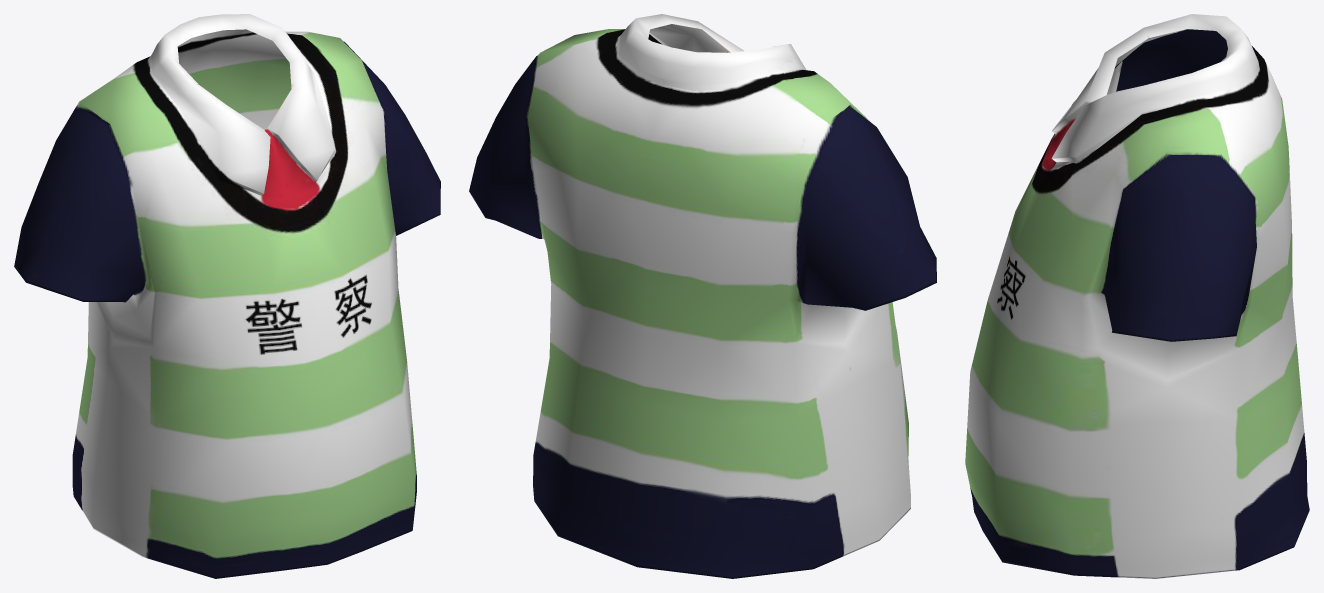
The model's file is AF_M_Jacket_07.FBX.
3 views of the same model, side by side, from view 1: azimuth 30°, elevation 25°; view 2: azimuth 150°, elevation 25°; view 3: azimuth 270°, elevation 25° (orthographic). The views are drawn at different scales.
Visible parts, largest first — view 1: AF_M_Jacket_07; view 2: AF_M_Jacket_07; view 3: AF_M_Jacket_07.
Part boxes in pixels (bbox=[...]): AF_M_Jacket_07: bbox=[14, 14, 440, 578]; AF_M_Jacket_07: bbox=[469, 14, 936, 578]; AF_M_Jacket_07: bbox=[965, 14, 1309, 578].
Size of the model in its own units: 467 by 487 by 320.
